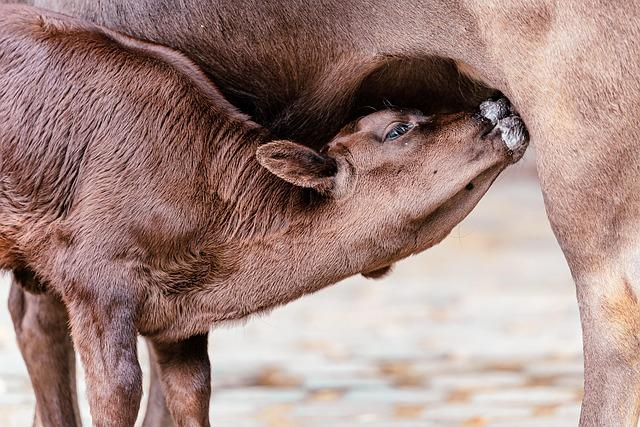Non_Gorille: (8, 0, 640, 426)
